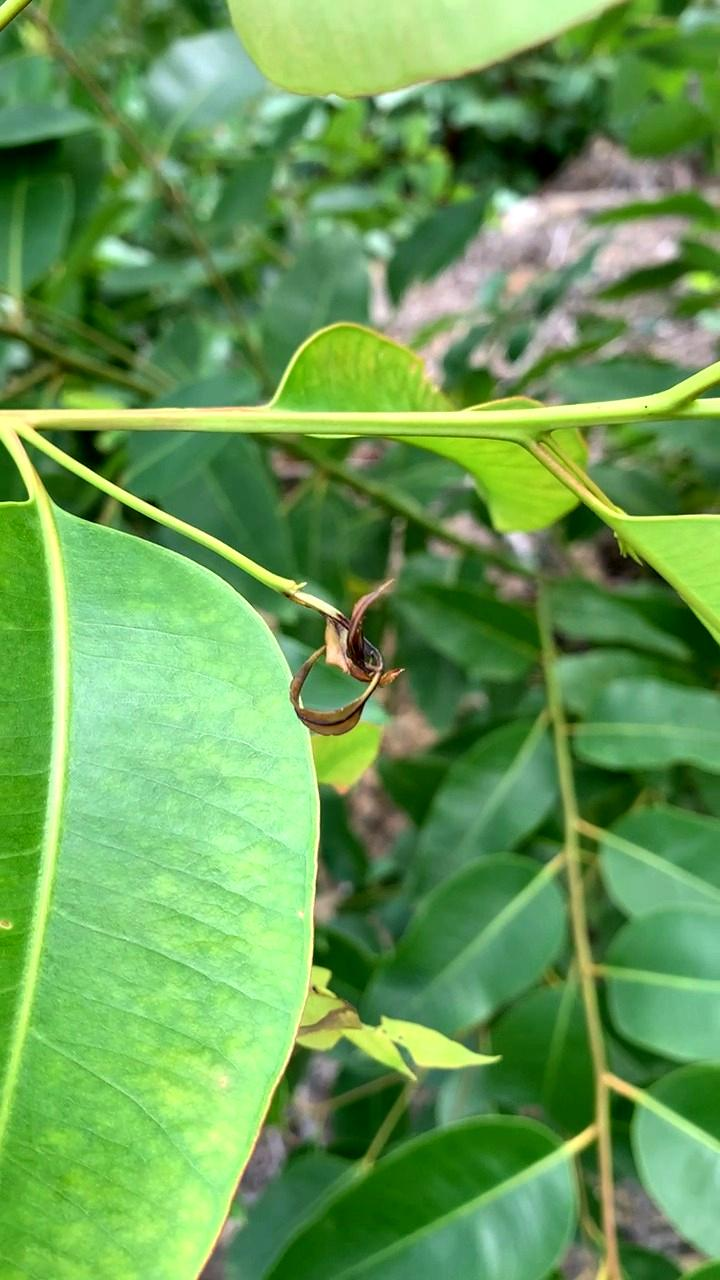Helopeltis-Withered Sprout: (288, 593, 411, 735)
